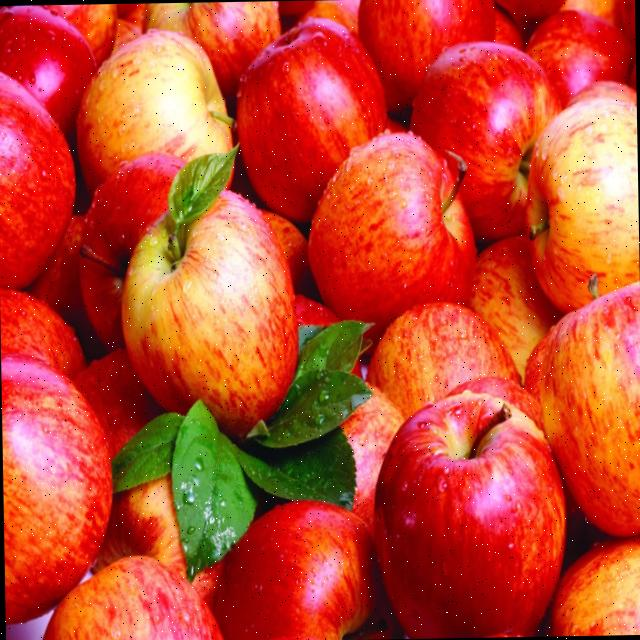Apel: (118, 160, 300, 440), (371, 390, 568, 637), (306, 128, 478, 352), (408, 38, 564, 242), (234, 17, 388, 223), (0, 352, 114, 624), (74, 26, 235, 197), (522, 82, 640, 314), (536, 278, 640, 538), (72, 347, 187, 582), (212, 497, 392, 640), (256, 380, 406, 544), (76, 150, 190, 352), (364, 299, 522, 422), (0, 67, 76, 288), (39, 552, 224, 640), (357, 0, 497, 114), (144, 1, 282, 102), (467, 234, 561, 380), (0, 4, 96, 138), (334, 380, 406, 541), (88, 470, 187, 582), (524, 8, 634, 108), (73, 346, 160, 459), (547, 535, 640, 635), (0, 286, 85, 381), (292, 292, 362, 382), (28, 212, 86, 320), (442, 374, 544, 434), (38, 4, 118, 68), (258, 208, 310, 293), (559, 0, 635, 45), (522, 322, 559, 403), (296, 0, 359, 37), (493, 0, 567, 30), (564, 80, 636, 108), (292, 292, 340, 330), (494, 3, 524, 50), (110, 16, 140, 56)
